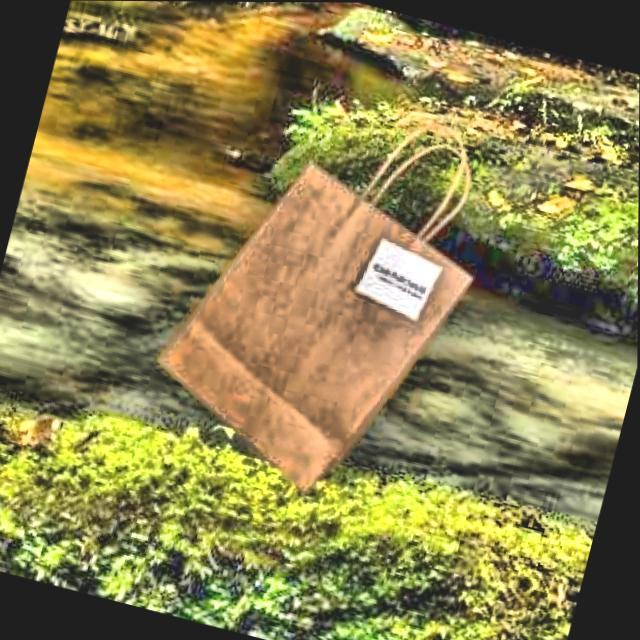Paper-bag: (151, 51, 516, 532)
